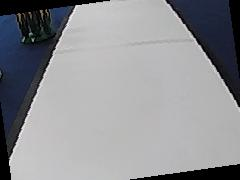corn: (13, 3, 60, 42)
